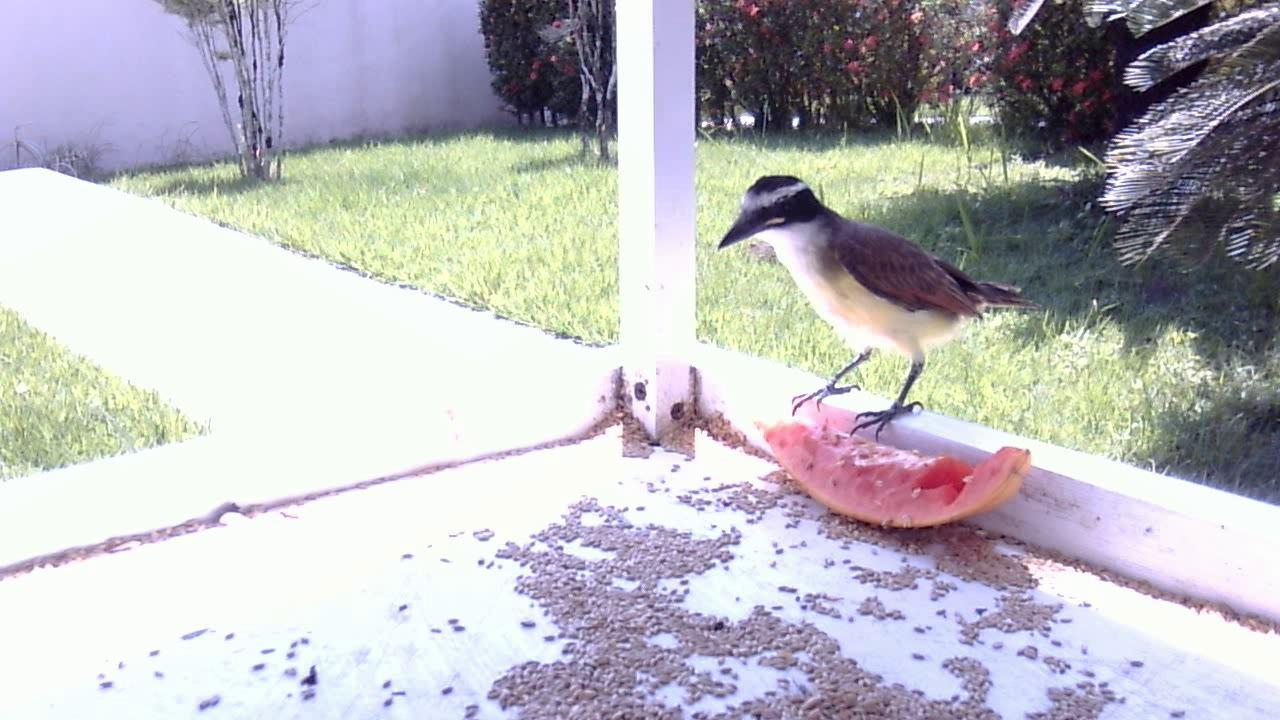bem_te_vi: (717, 165, 1038, 455)
